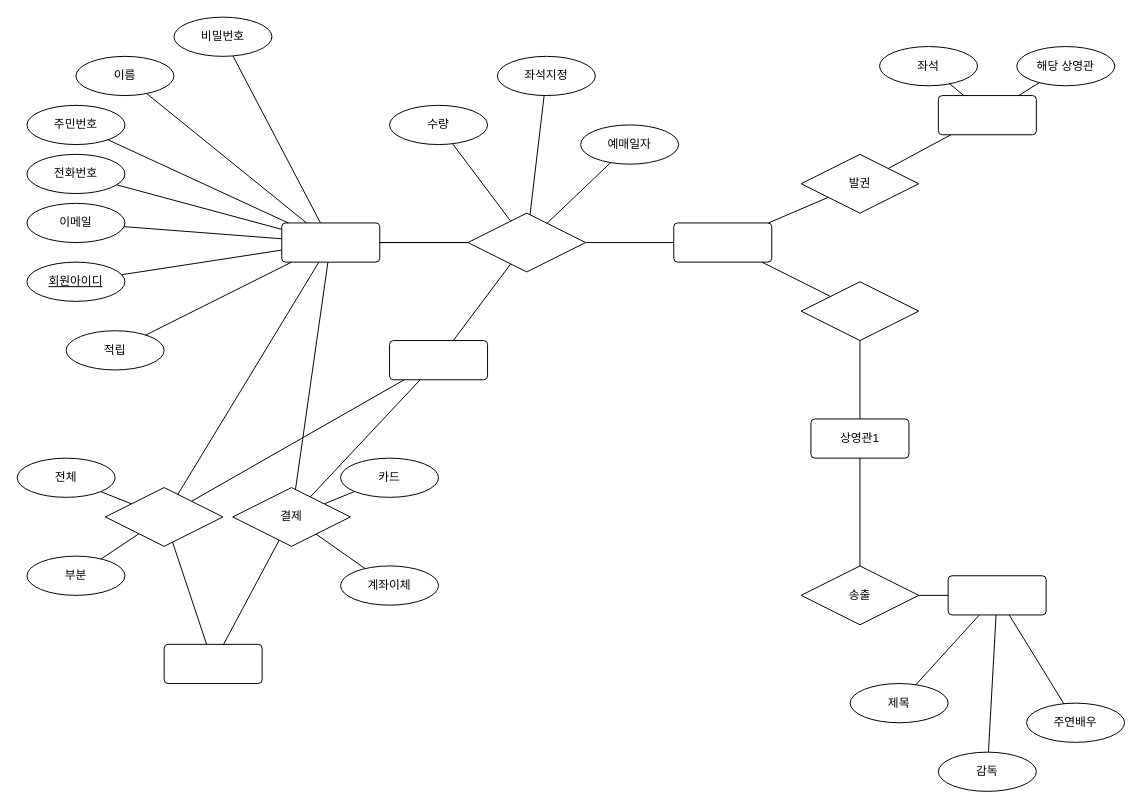
This 1142x809 diagram has some shape labels left out. Each missing label, with the centre of its shape:
결제대행사: the point at 212,663
결제취소: the point at 163,516
극장: the point at 722,242
비회원: the point at 438,360
상영: the point at 859,311
영화1: the point at 996,595
영화표: the point at 986,115
예매: the point at 526,242
회원: the point at 330,242
